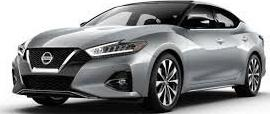Crossovers: (13, 1, 266, 111)
